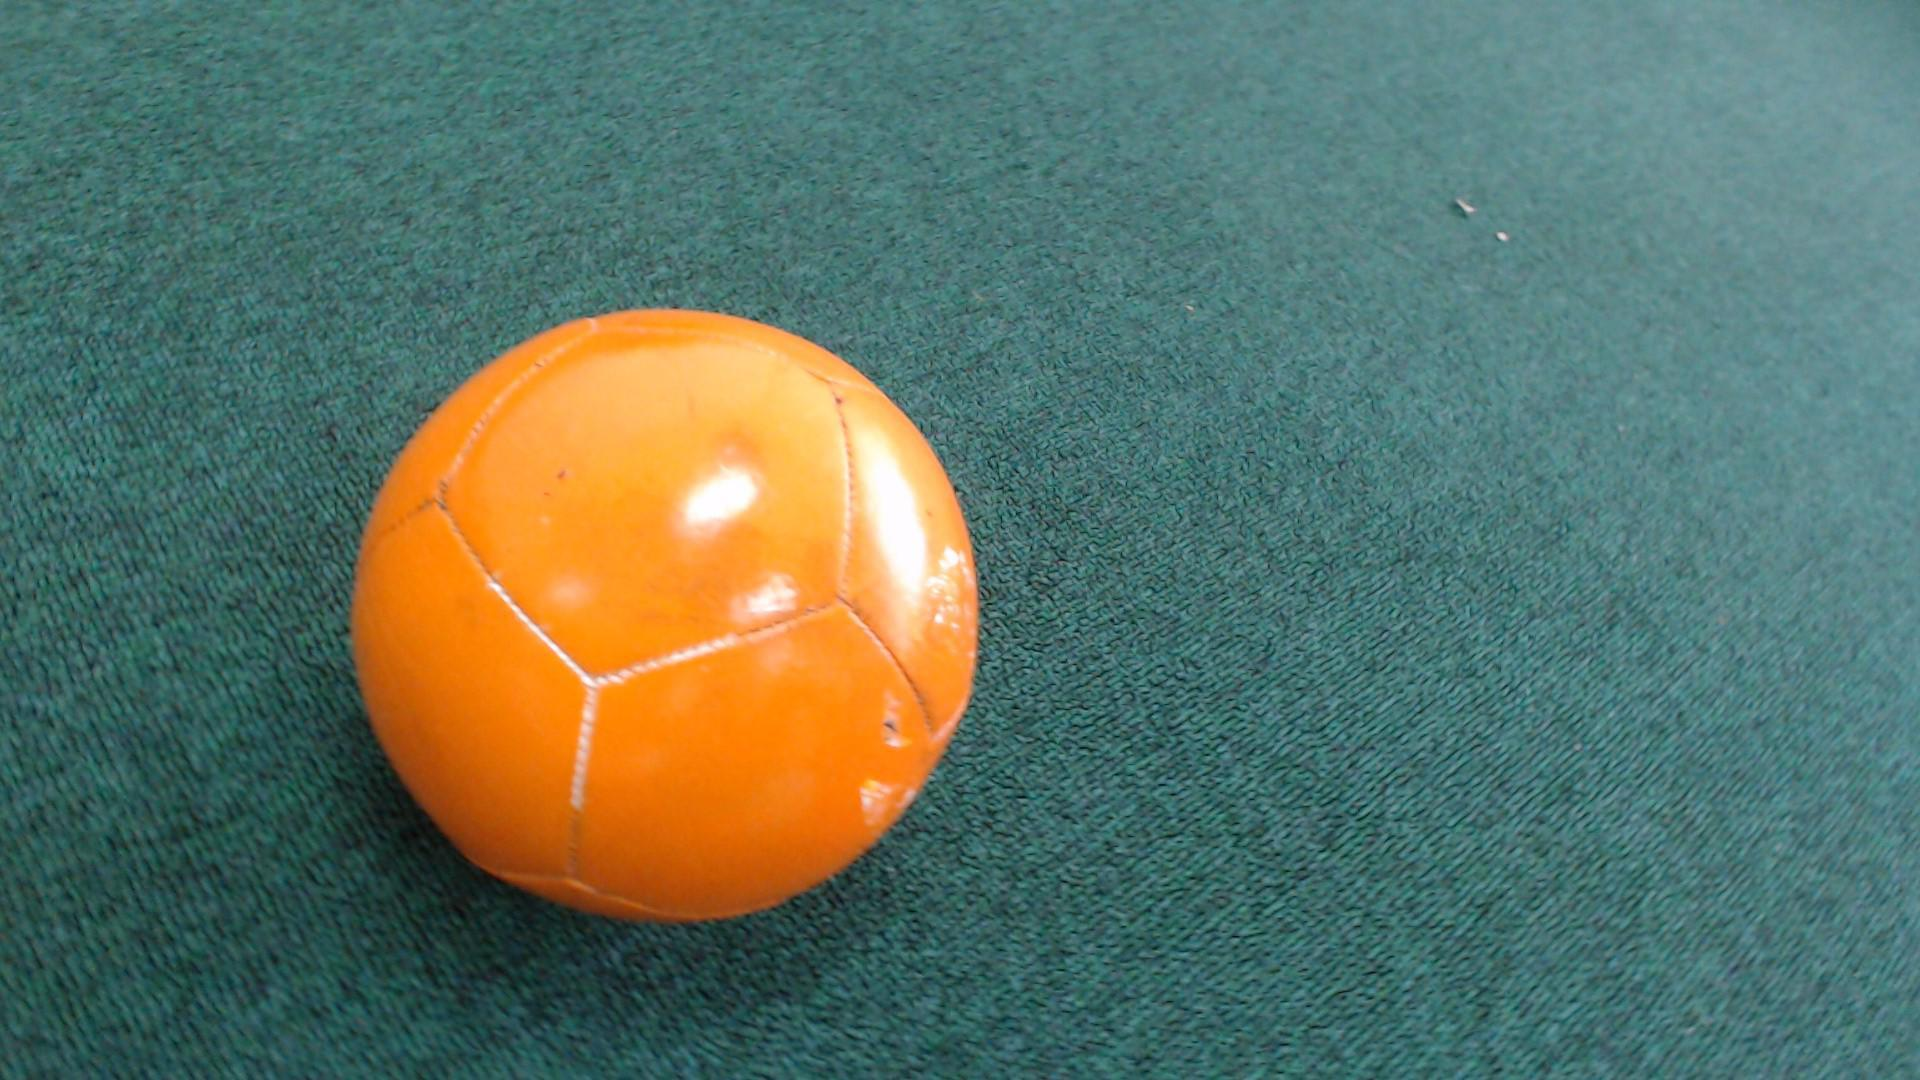bola: (303, 299, 1040, 948)
